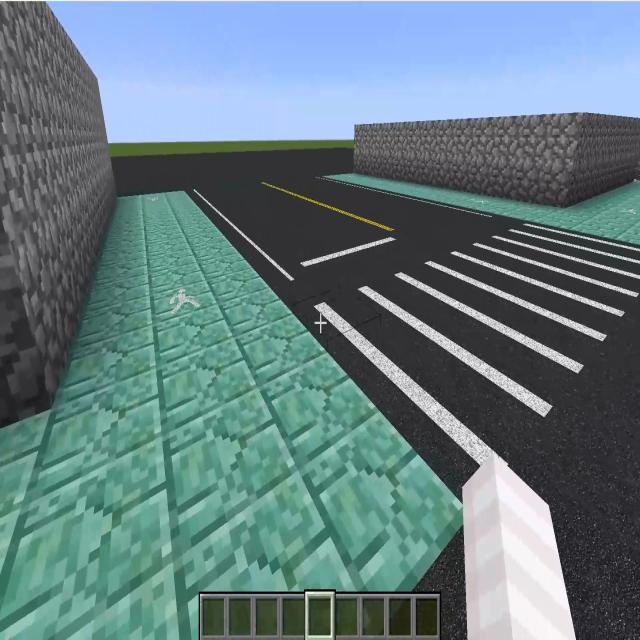crosswalk: (296, 224, 640, 501)
road: (111, 149, 525, 313), (512, 295, 640, 639), (415, 528, 466, 639)
sidewalk: (0, 192, 462, 639), (328, 174, 640, 242)
